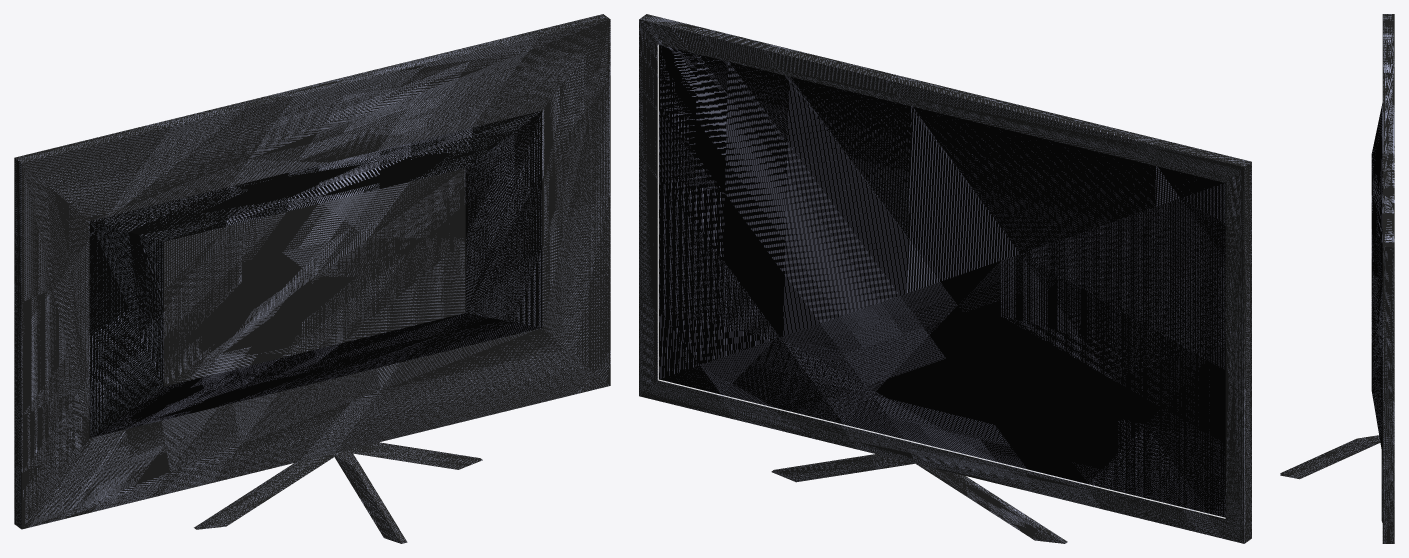
The picture shows the model from 3 angles, left to right: view 1: azimuth 30°, elevation 25°; view 2: azimuth 150°, elevation 25°; view 3: azimuth 270°, elevation 25°; orthographic projection. The views are drawn at different scales.
Parts seen in each view (by area): view 1: group_5 (×3), group_3, group_4, group_2; view 2: group_5 (×3), group_3, group_2; view 3: group_5 (×2), group_4.
Part boxes in pixels (<box>): group_5 (×3): <box>14,14,610,529</box>; group_3: <box>194,451,341,529</box>; group_4: <box>333,450,407,543</box>; group_2: <box>342,442,482,469</box>; group_5 (×3): <box>639,14,1251,543</box>; group_3: <box>916,464,1067,543</box>; group_2: <box>771,454,914,482</box>; group_5 (×2): <box>1371,14,1394,543</box>; group_4: <box>1280,435,1380,479</box>.
Size of the model in its own units: 1392 by 288 by 934.
